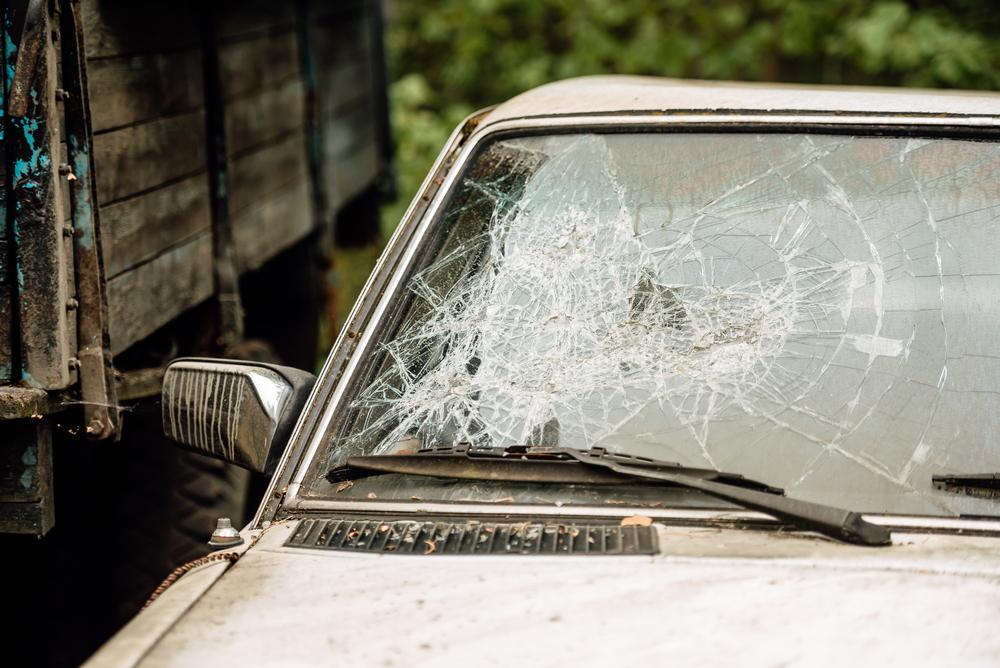glass shatter: (310, 133, 1000, 520)
